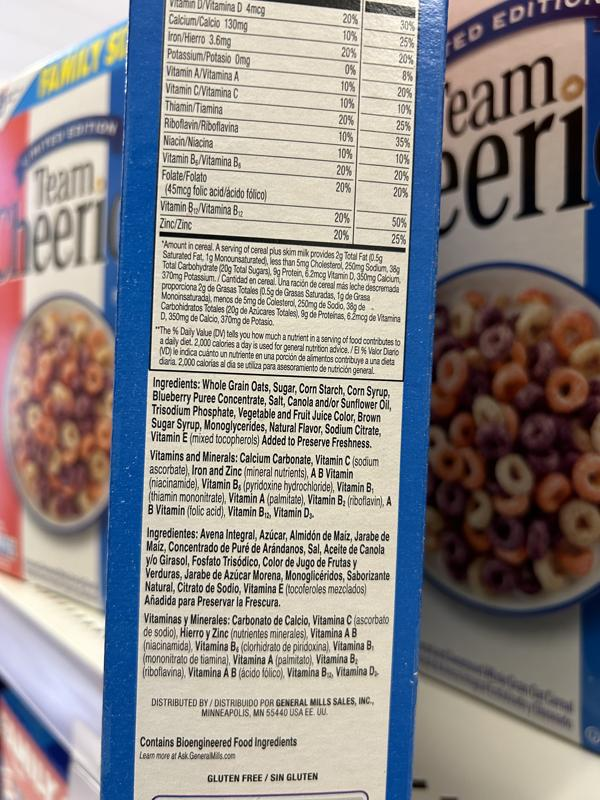ingredients: (149, 375, 394, 451)
